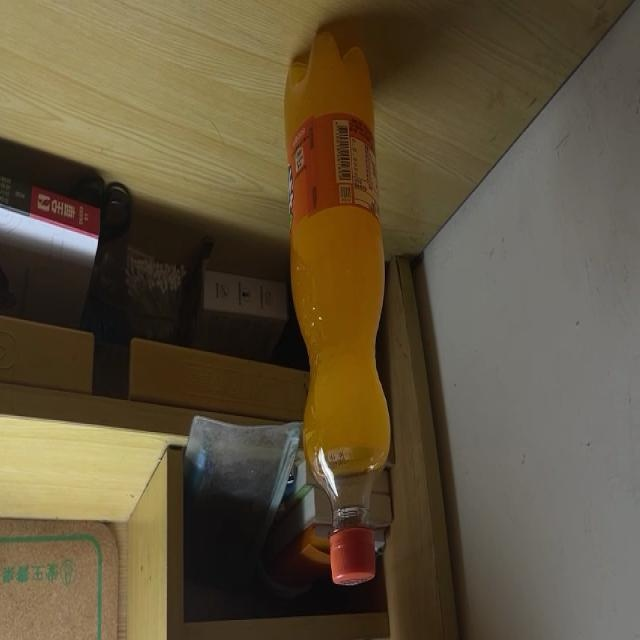Fanta: (284, 26, 391, 588)
